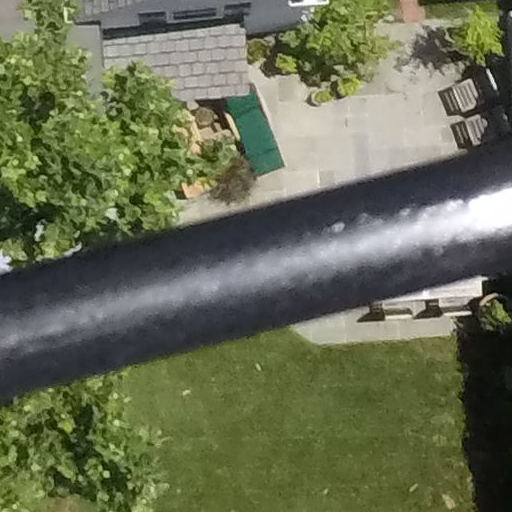container: (191, 108, 214, 130)
flower pot: (336, 74, 360, 100), (308, 87, 329, 105)
